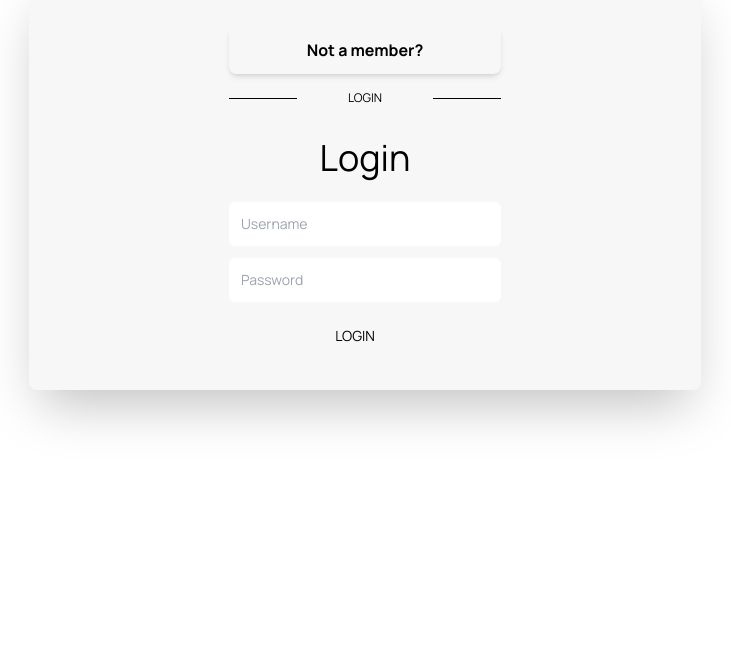
Test case: MemberPage page component › when user clicks 'Not a Member?' the Register component appears
This screenshot has width=731, height=666.
Click the link with test id "register-login-button" at (365, 50), box top-left (229, 26), bottom-right (501, 74)
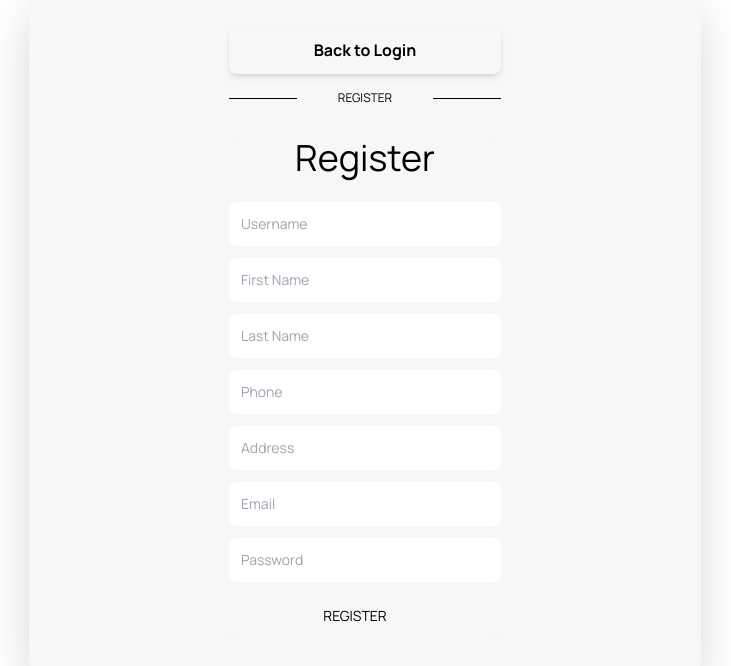
Expected: the heading "Back to Login" is shown, top-left (314, 39), bottom-right (416, 61)
Expected: the field with placeholder "Address" is shown, top-left (229, 426), bottom-right (501, 470)
Expected: the field with placeholder "Phone" is shown, top-left (229, 370), bottom-right (501, 414)
